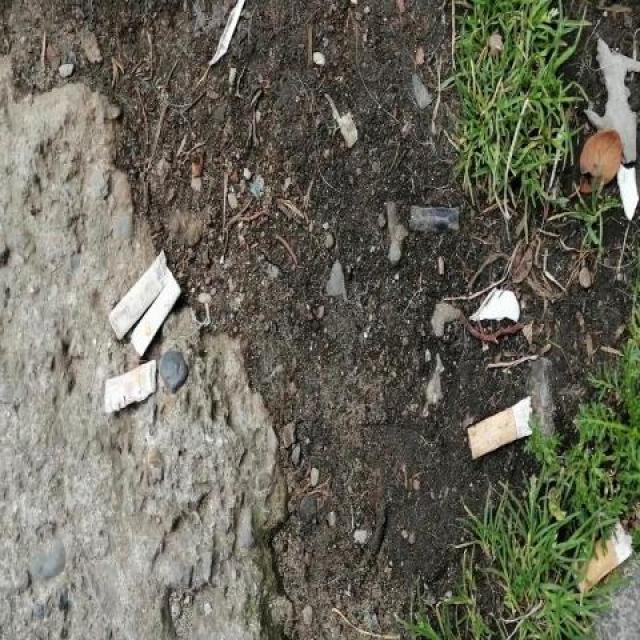non-organic waste: (108, 240, 172, 345), (462, 392, 543, 464), (568, 518, 640, 598), (129, 268, 187, 360), (97, 357, 166, 424)
